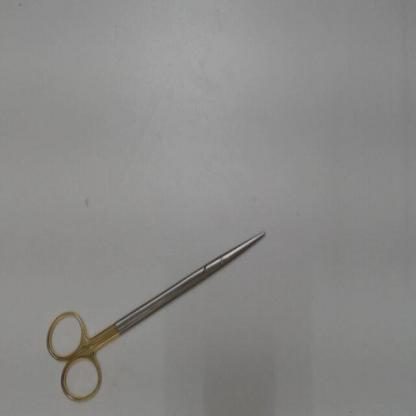7 Metzenbaum Scissors: (40, 224, 270, 408)
